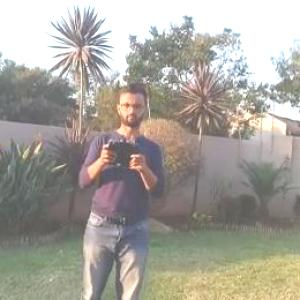follow: (69, 74, 172, 299)
